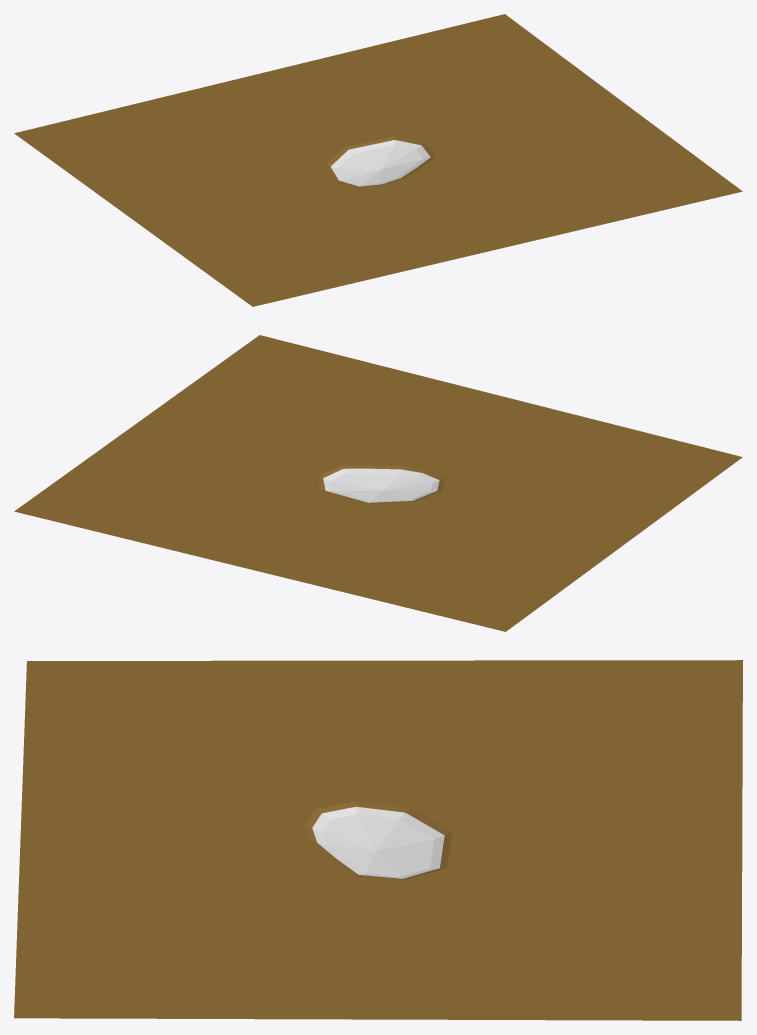
The model's file is Low poly land 2.fbx.
3 views of the same model, one above another, from view 1: azimuth 30°, elevation 25°; view 2: azimuth 150°, elevation 25°; view 3: azimuth 270°, elevation 25° (orthographic). The views are drawn at different scales.
Visible parts, largest first — view 1: Plane; view 2: Plane; view 3: Plane.
Boxes of the visible parts, bbox=[...] form: Plane: bbox=[14, 14, 742, 306]; Plane: bbox=[14, 335, 742, 631]; Plane: bbox=[14, 660, 742, 1020].
Bounding box in the file's own units: 2182 × 32.59 × 1864.
